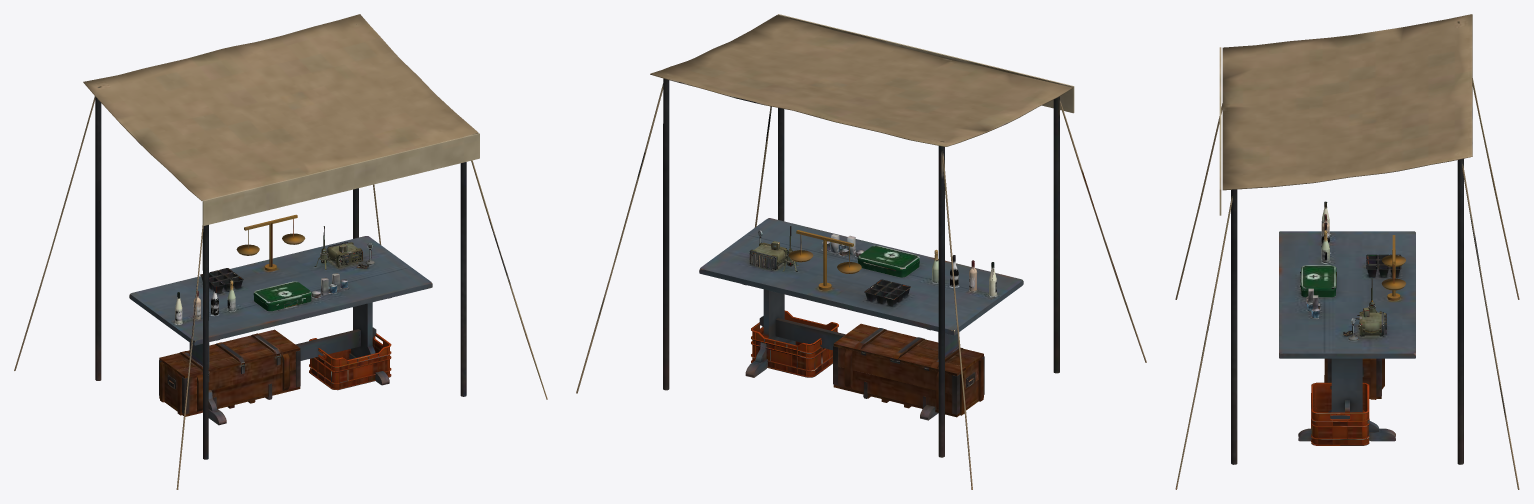
Rendered from trade_table.glb.
3 renders of one model, left to right at view 1: azimuth 30°, elevation 25°; view 2: azimuth 150°, elevation 25°; view 3: azimuth 270°, elevation 25°, orthographic. The views are drawn at different scales.
Visible parts, largest first — view 1: trade_table; view 2: trade_table; view 3: trade_table.
Part boxes in pixels (x1,y1,x2,y2): trade_table: [14, 14, 547, 489]; trade_table: [576, 14, 1146, 489]; trade_table: [1175, 14, 1519, 489].
Size of the model in its own units: 3.11 by 2.38 by 2.37.
1 material, 1 textured.
